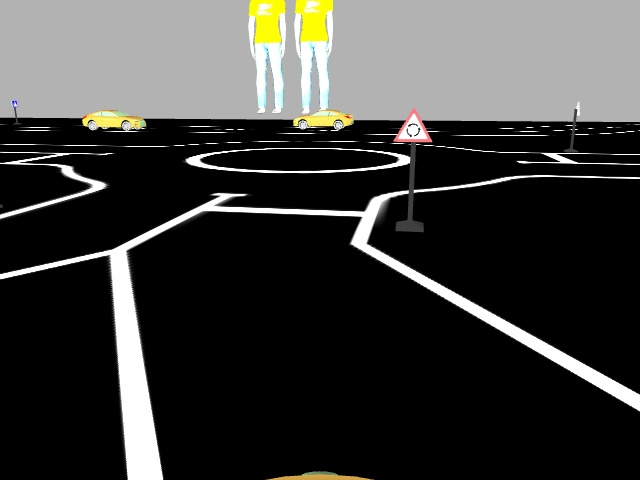Roundabout: (391, 105, 434, 142)
